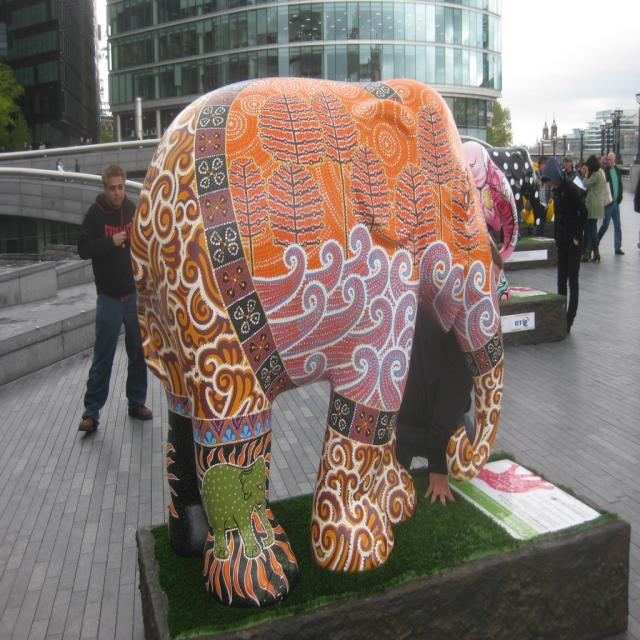elephant: (127, 50, 511, 623)
